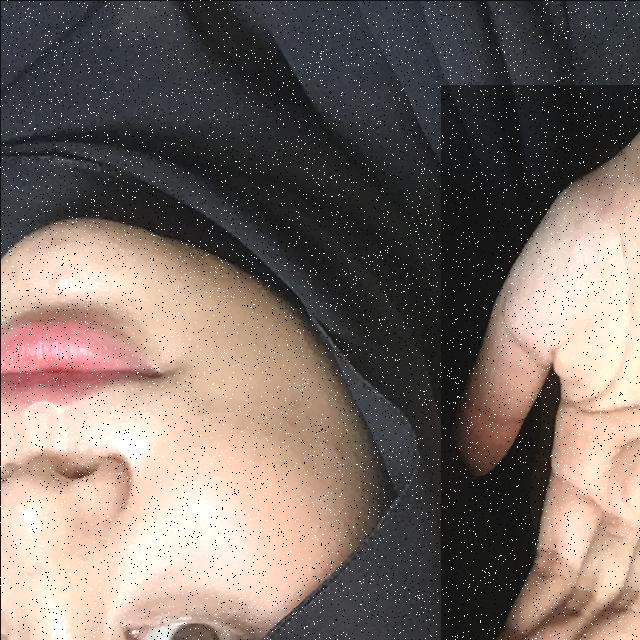mendengar: (440, 84, 640, 640)
